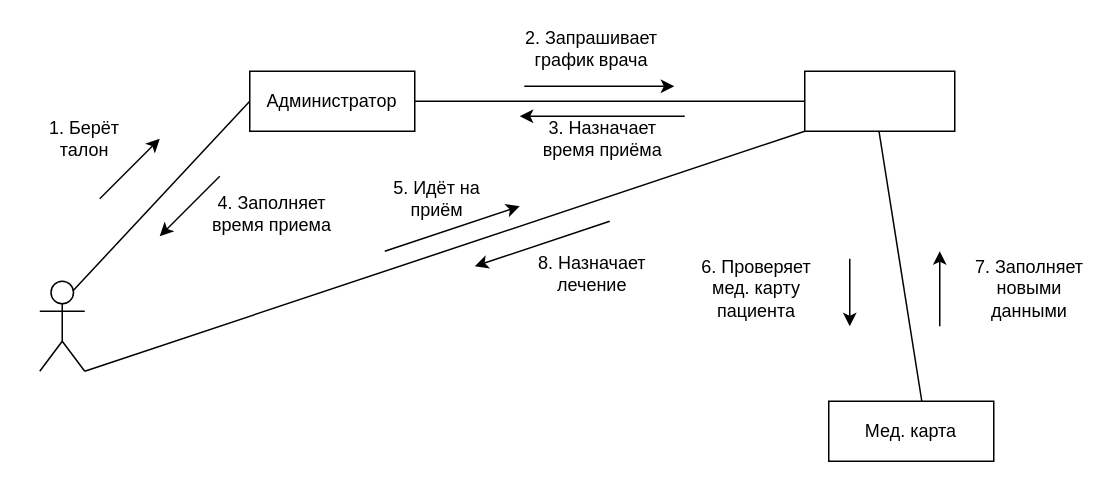
Image size: 1116x488. Some labels were removed from this diagram. The shapes that lost their labels are listed below. From the top down, each one's centre as x and y in pixels, then its label:
At (x=879, y=100): "Врач".
At (x=61, y=325): "Пациент".
